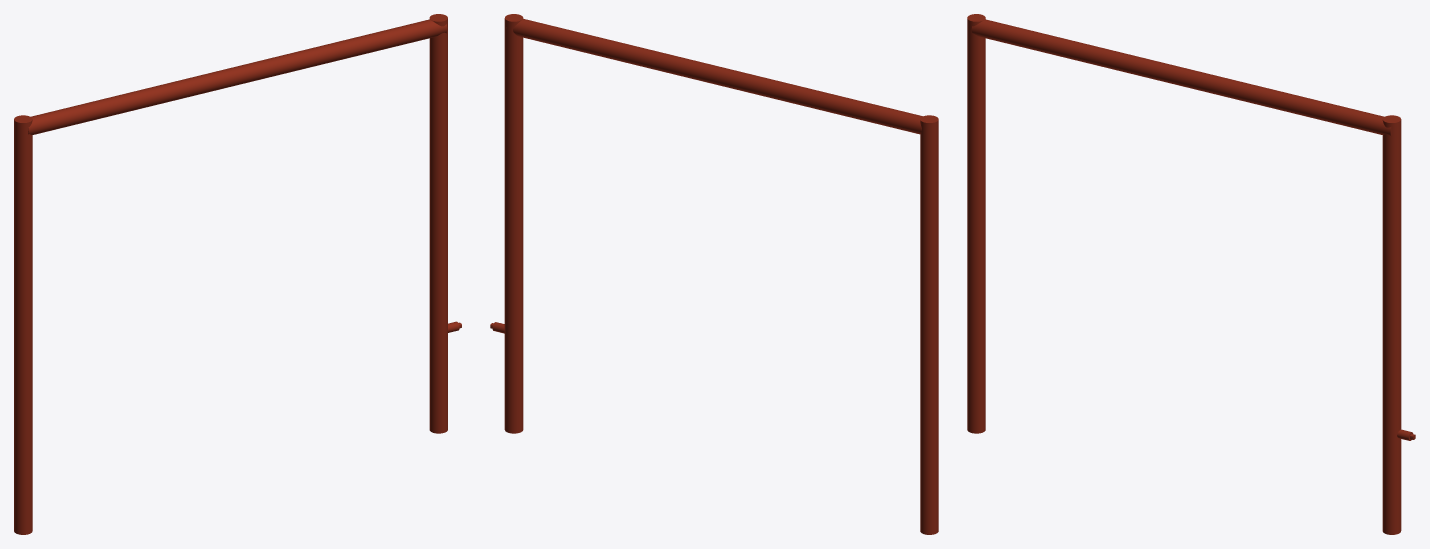
File: pole.fbx
The picture shows the model from 3 angles, left to right: view 1: azimuth 30°, elevation 25°; view 2: azimuth 150°, elevation 25°; view 3: azimuth 330°, elevation 25°; orthographic projection.
Parts seen in each view (by area): view 1: pole; view 2: pole; view 3: pole.
Part boxes in pixels (x1,y1,x2,y2): pole: (14, 14, 461, 534); pole: (490, 14, 938, 534); pole: (967, 14, 1415, 534).
Size of the model in its own units: 2024 by 1787 by 75.54.
